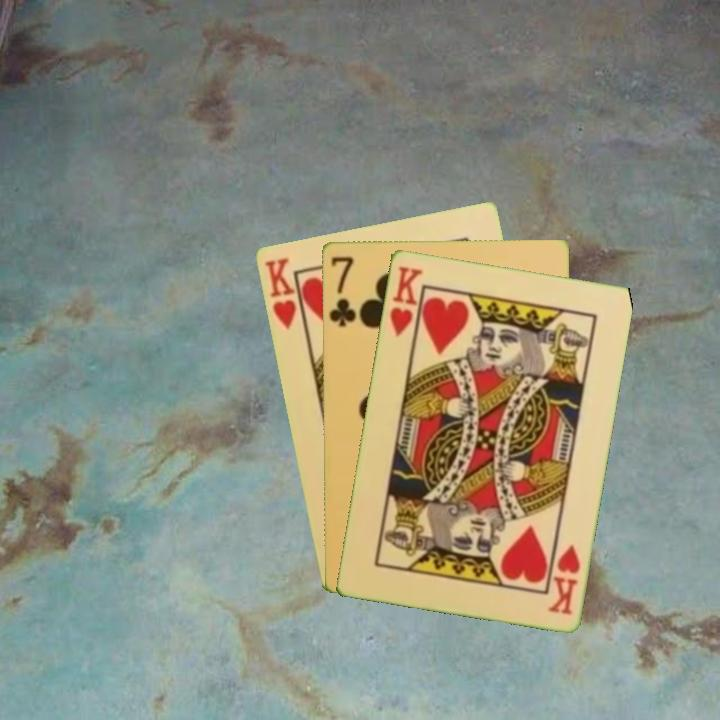7c: (325, 252, 359, 329)
Kh: (260, 253, 308, 333), (385, 262, 425, 346), (544, 540, 583, 617)
